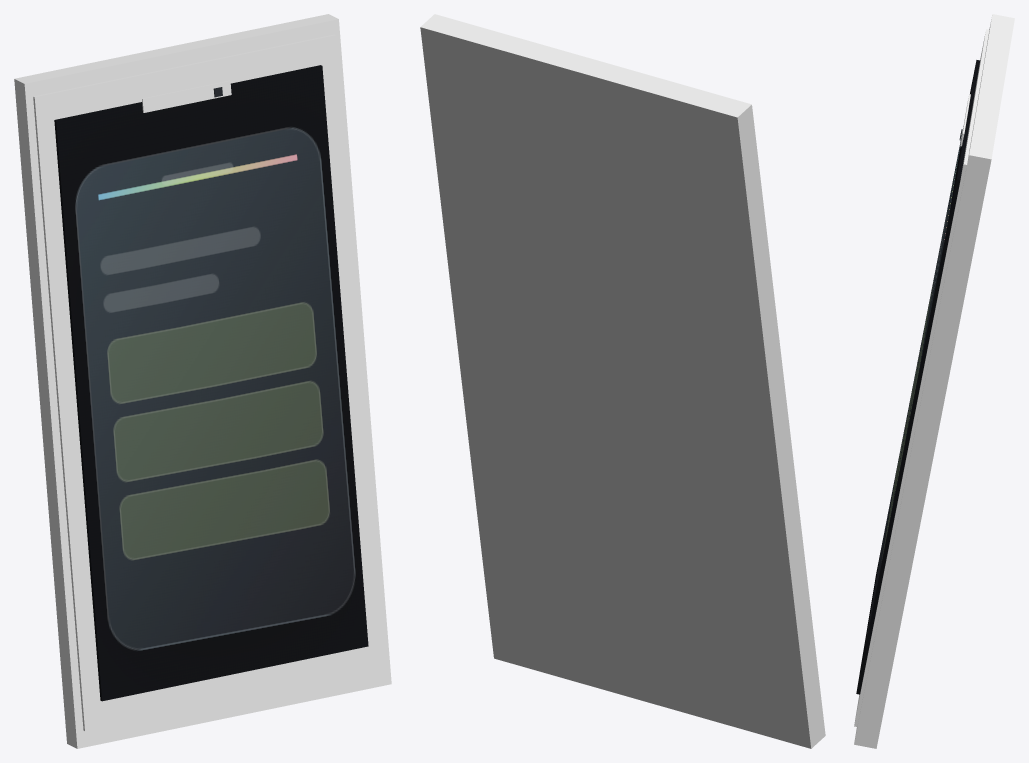
The model's file is celular.glb.
The picture shows the model from 3 angles, left to right: view 1: azimuth 30°, elevation 25°; view 2: azimuth 150°, elevation 25°; view 3: azimuth 270°, elevation 25°; orthographic projection. The views are drawn at different scales.
Visible parts, largest first — view 1: edge to edge black glass display, thin polished silver rim, single piece pearl white phone body, professional speaker capsule; view 2: single piece pearl white phone body; view 3: single piece pearl white phone body, edge to edge black glass display, thin polished silver rim.
Part boxes in pixels (x1,y1,x2,y2): edge to edge black glass display: (54,65,368,701); thin polished silver rim: (33,34,385,731); single piece pearl white phone body: (14,14,391,748); professional speaker capsule: (142,80,231,112); single piece pearl white phone body: (420,14,825,748); single piece pearl white phone body: (854,14,1014,748); edge to edge black glass display: (856,60,980,694); thin polished silver rim: (854,29,989,726).
Size of the model in its own units: 1.21 by 2.32 by 0.5663.
Materials: 5 (1 with a texture image).
